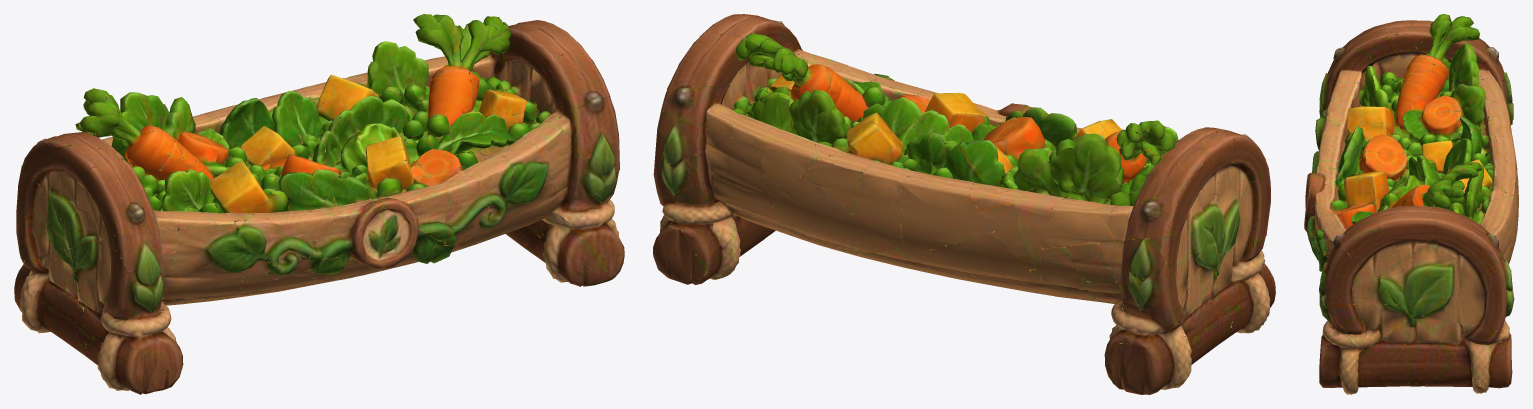
Rendered from harvest-cradle.glb.
3 renders of one model, left to right at view 1: azimuth 30°, elevation 25°; view 2: azimuth 150°, elevation 25°; view 3: azimuth 270°, elevation 25°, orthographic. The views are drawn at different scales.
Visible parts, largest first — view 1: mesh_node; view 2: mesh_node; view 3: mesh_node.
Boxes of the visible parts, x1=… form: mesh_node: x1=14, y1=14, x2=624, y2=394; mesh_node: x1=653, y1=14, x2=1275, y2=394; mesh_node: x1=1304, y1=14, x2=1518, y2=394.
Size of the model in its own units: 1.91 by 0.854 by 0.8178.
1 material, 1 textured.
